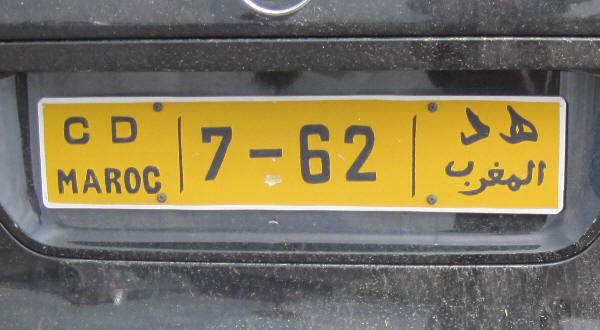number_plate: (39, 94, 566, 216)
